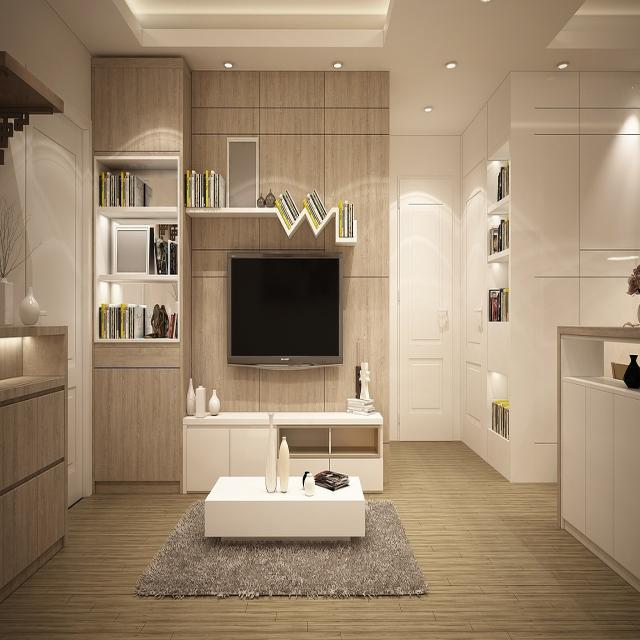floor: (0, 440, 640, 640)
wall: (191, 71, 390, 483), (511, 70, 640, 483), (92, 55, 183, 496), (389, 135, 462, 441), (0, 377, 68, 603), (226, 252, 343, 366), (462, 72, 511, 178), (110, 282, 177, 337), (130, 170, 177, 206)
